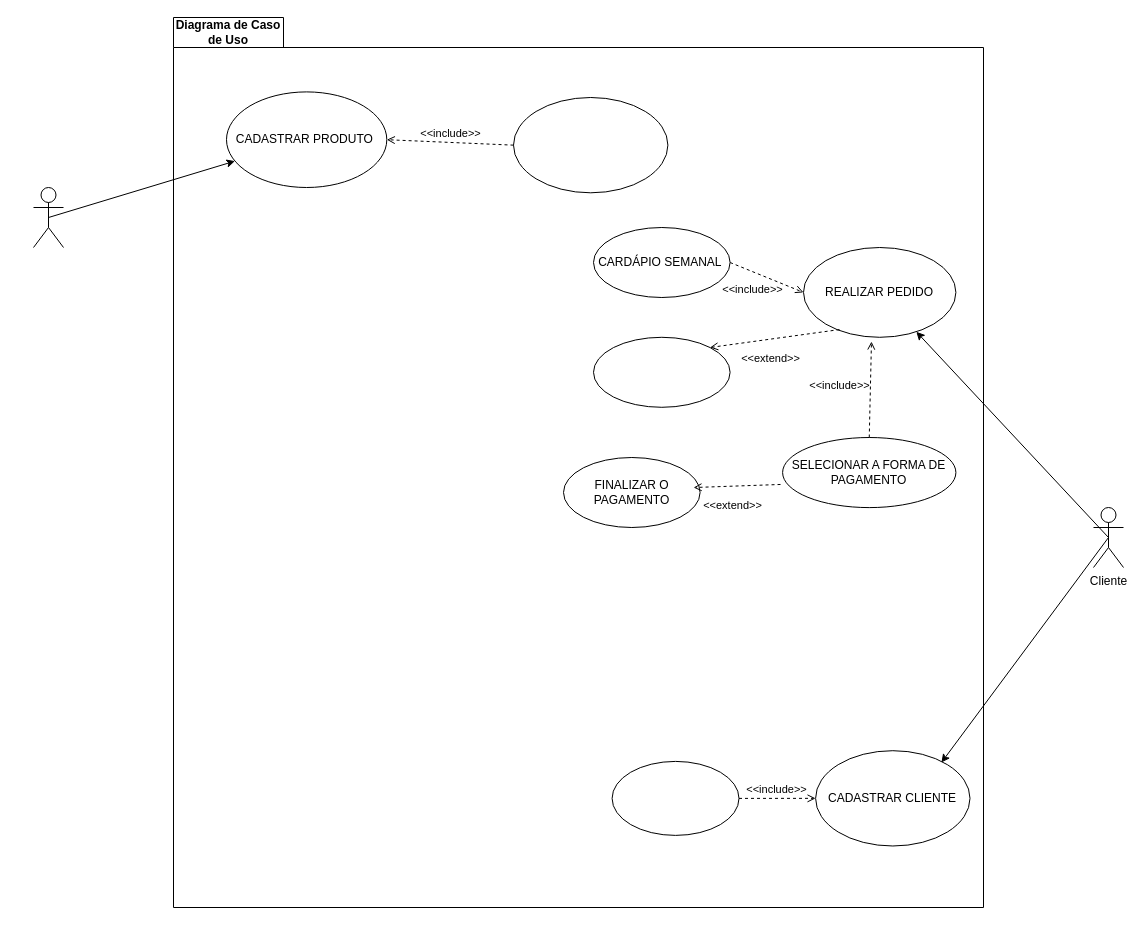
Some shapes in this 1144 by 925 pixel diagram are drawn without their labels. The centre of each missing label's shape, as x and y in pixels:
"CADASTRAR RAPIDAMENTE" goes at (661,371).
"CADASTRAR TIPOS DE PÃES" goes at (590,144).
"LOGIN" goes at (675,797).
"Proprietário" goes at (48,217).
